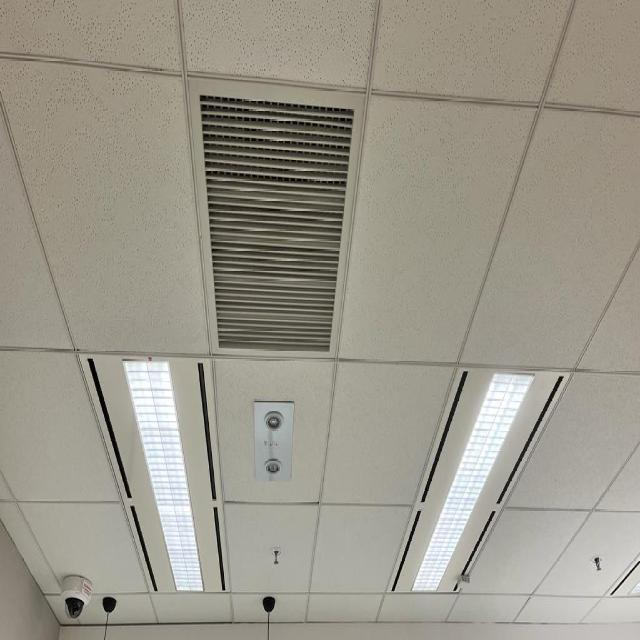Light-Opened: (386, 363, 576, 596), (73, 349, 231, 595)
